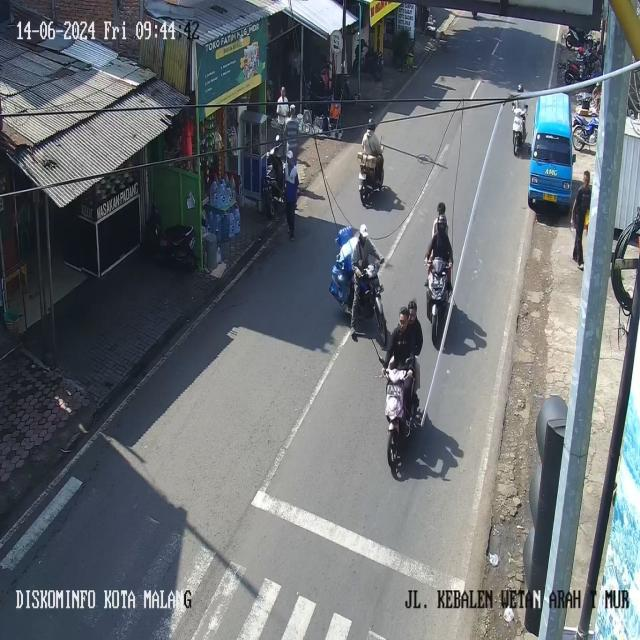Helmet: (437, 213, 446, 227), (359, 224, 368, 237), (437, 202, 445, 215), (367, 119, 375, 130), (517, 84, 522, 92)
Number Plate: (543, 193, 556, 201)
Rearview Mirror: (572, 153, 575, 162)
